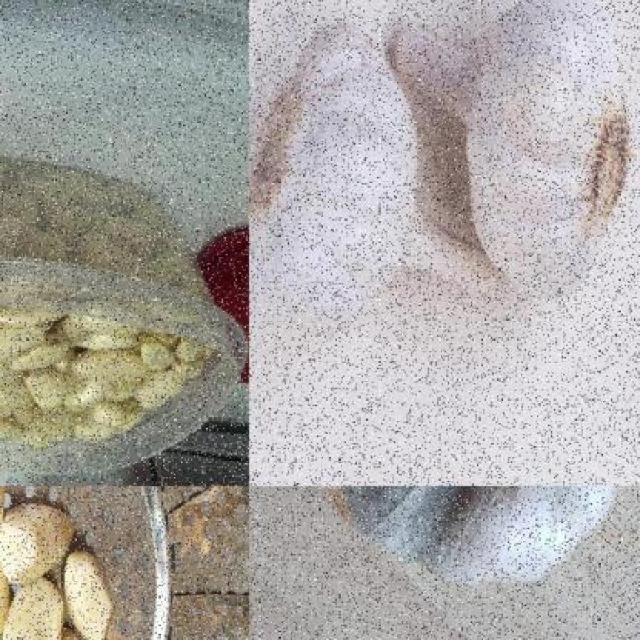garlic: (248, 21, 496, 344), (394, 0, 638, 306), (0, 166, 215, 450), (308, 486, 637, 586), (0, 485, 115, 639)
